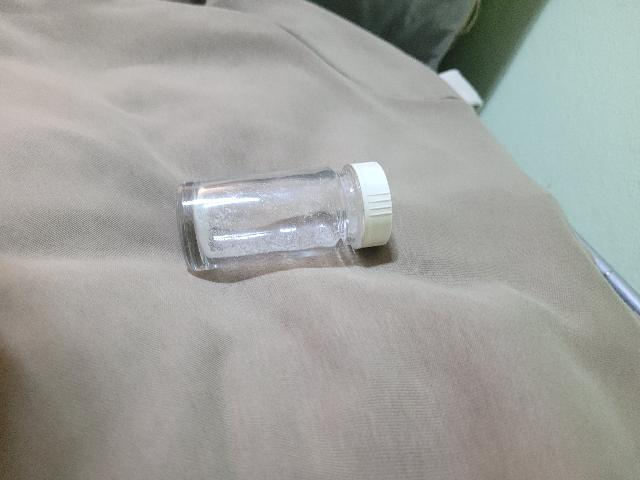Cam: (160, 167, 366, 287)
Plastik: (354, 160, 395, 262)
